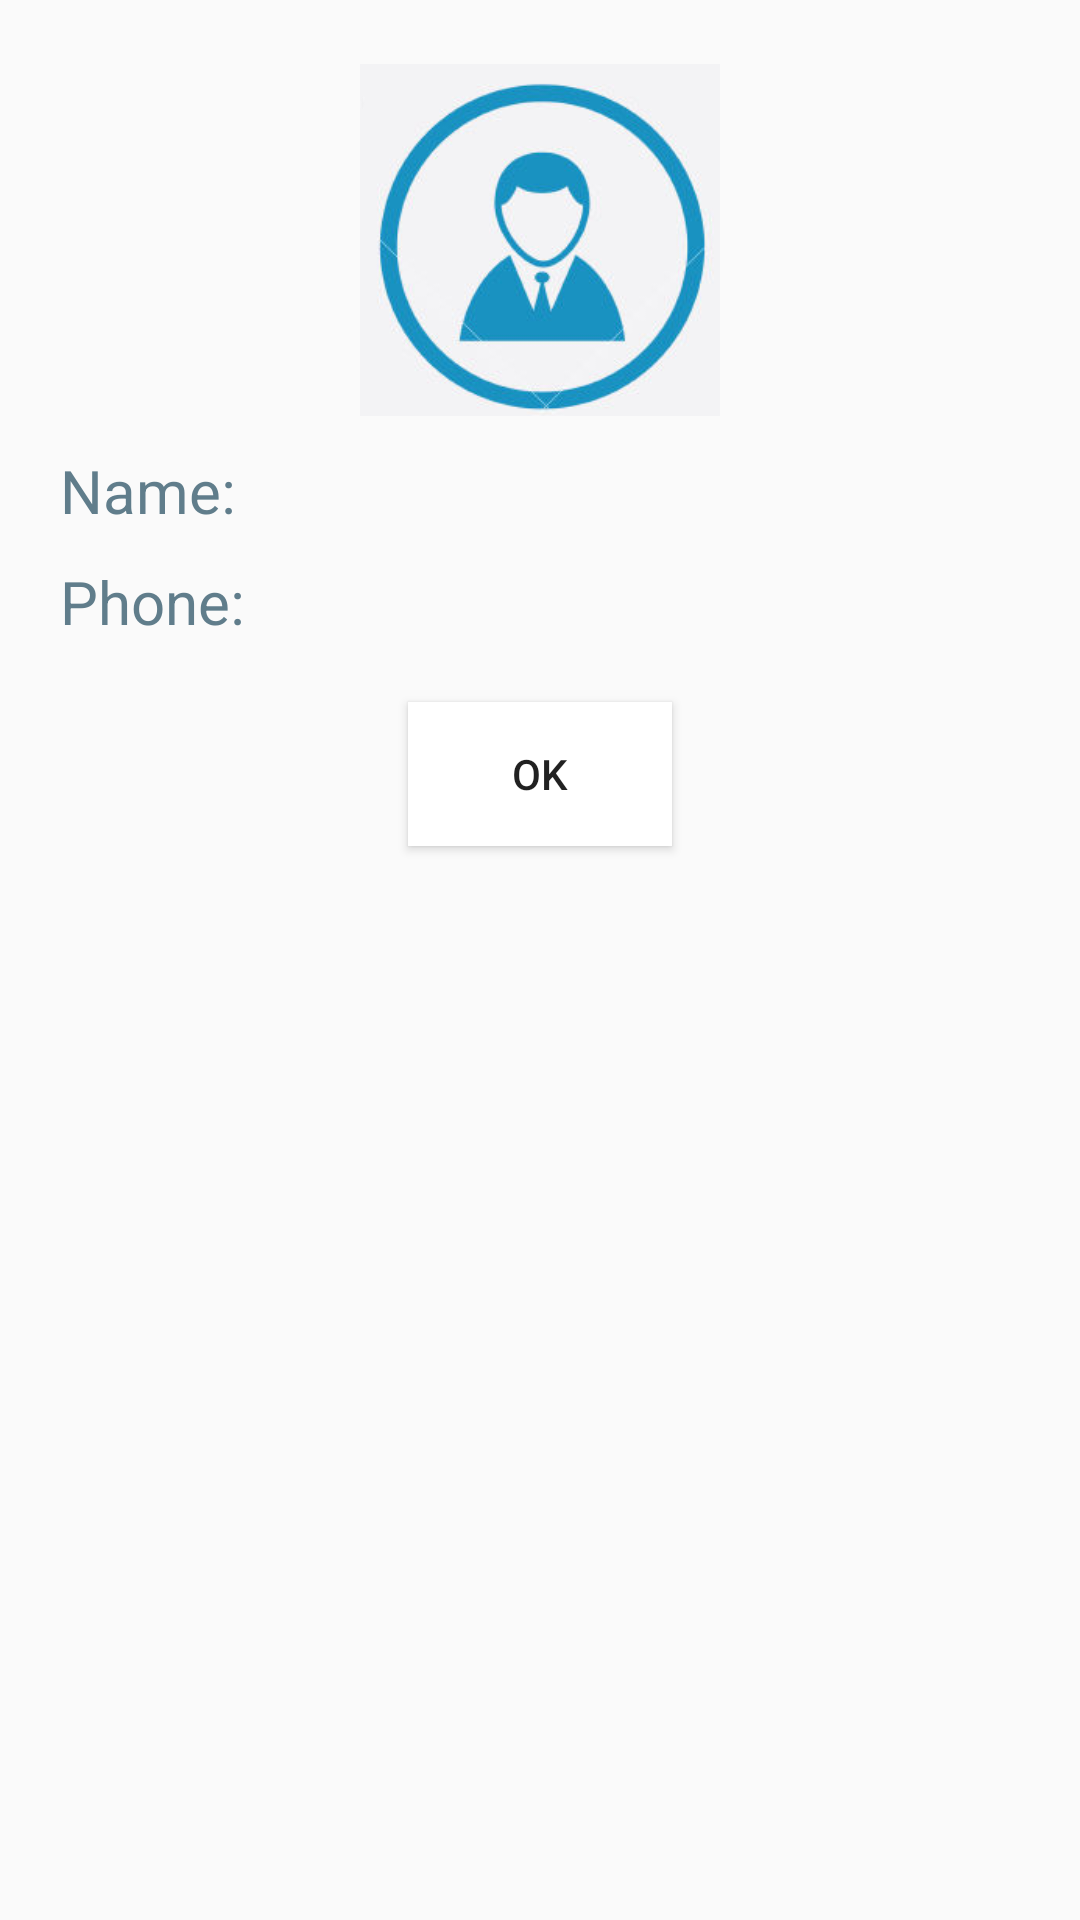

Where icons sit on this 1080×1920 app screen, as (x1,y1,x2,y2):
person: (379,84,709,411)
